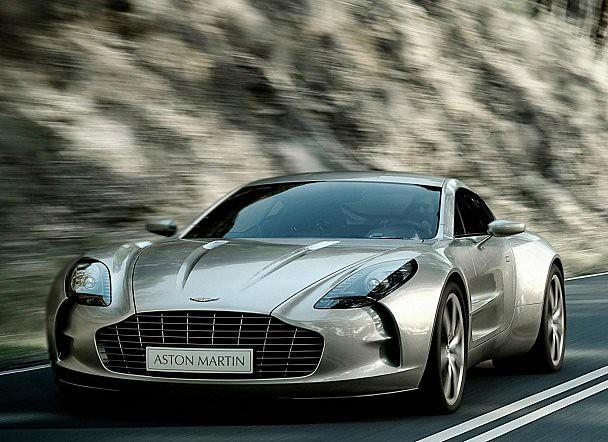windshield: (178, 181, 449, 240)
